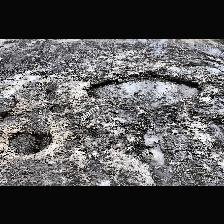pothole: (83, 69, 202, 108), (6, 129, 52, 155), (134, 132, 168, 164)
